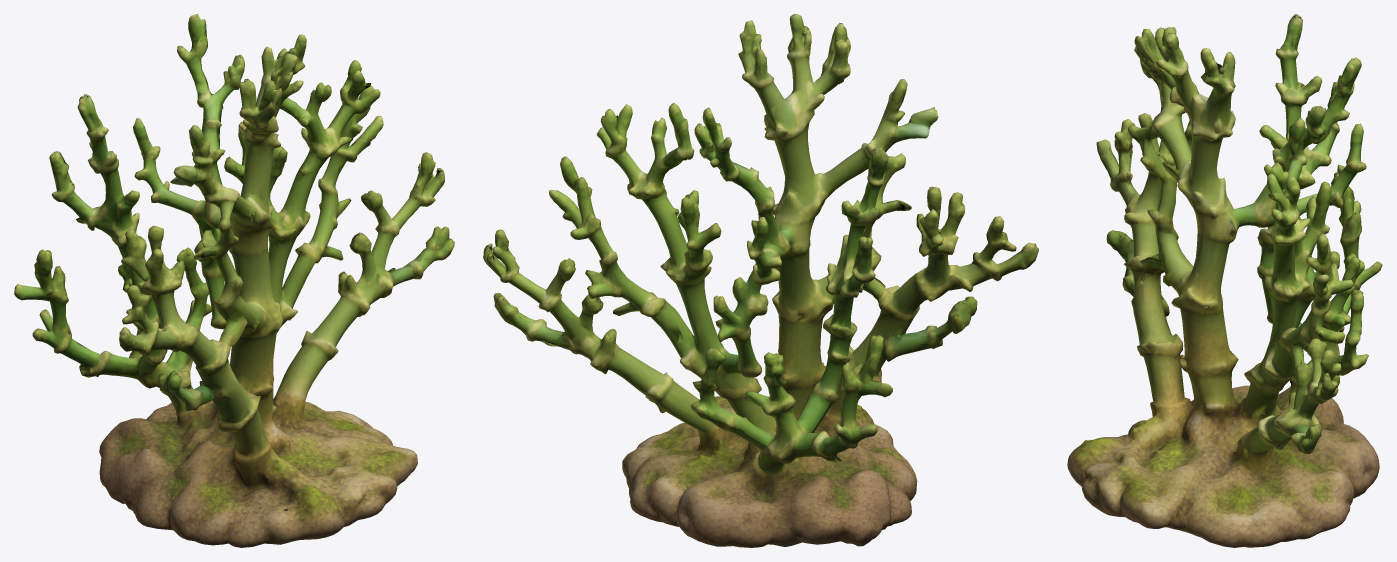
3 renders of one model, left to right at view 1: azimuth 30°, elevation 25°; view 2: azimuth 150°, elevation 25°; view 3: azimuth 270°, elevation 25°, orthographic.
Visible parts, largest first — view 1: world; view 2: world; view 3: world.
Boxes of the visible parts, x1,y1,x2,y2 form: world: (14, 14, 454, 547); world: (483, 14, 1038, 547); world: (1067, 14, 1382, 547).
Bounding box in the file's own units: 0.3503 × 0.35 × 0.2169.
1 material, 1 textured.
